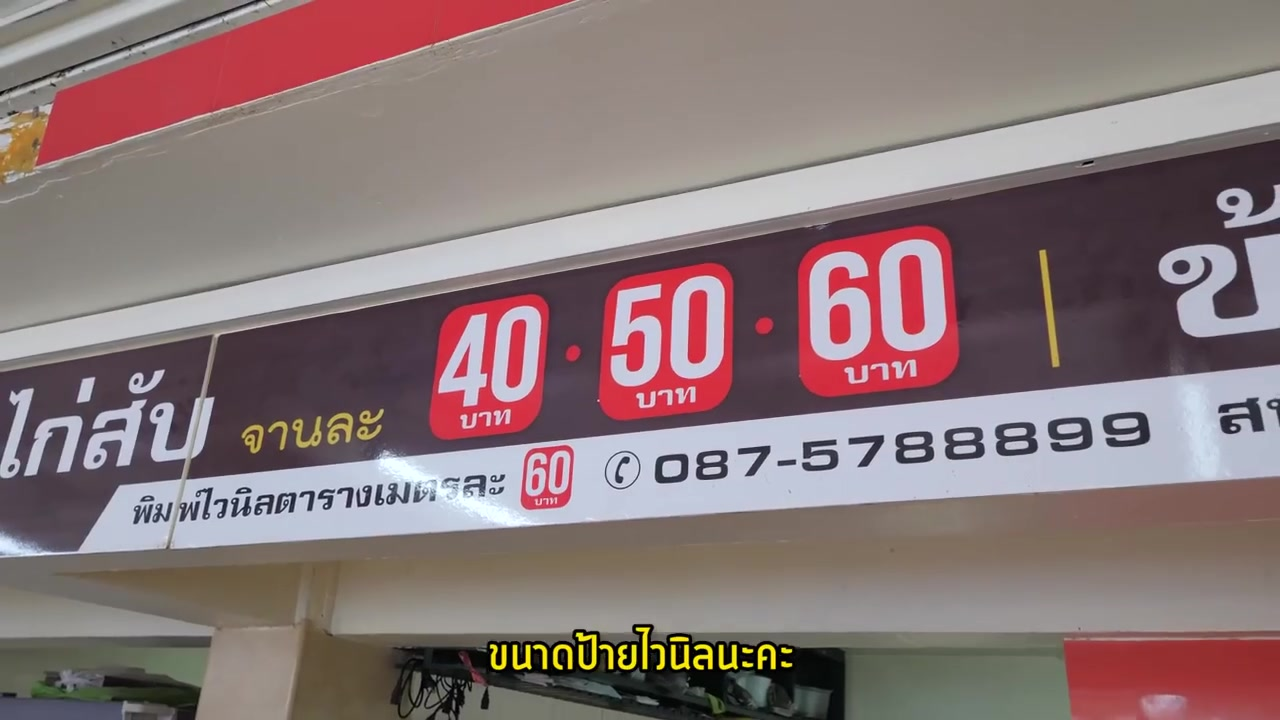text-label: (488, 618, 798, 671)
